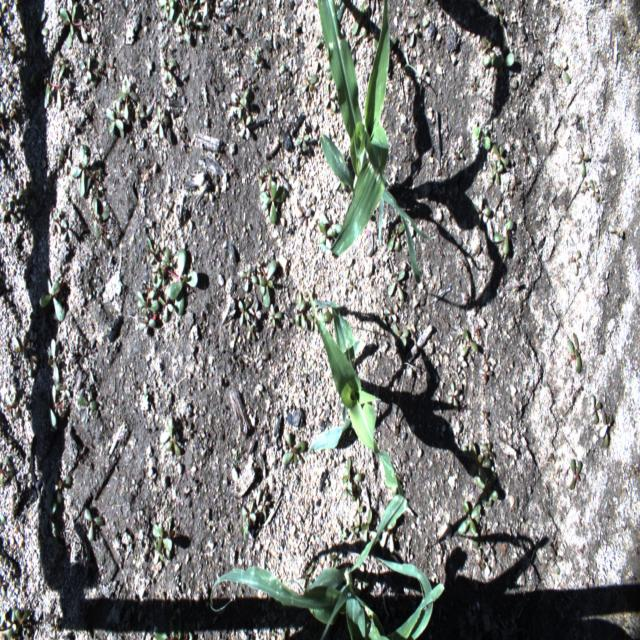crop: (316, 0, 438, 284), (210, 495, 445, 639), (306, 289, 403, 494)
weed: (147, 237, 198, 314), (157, 0, 215, 43), (60, 0, 104, 48), (71, 144, 103, 204), (39, 264, 71, 323), (258, 166, 288, 224), (36, 379, 70, 428), (150, 604, 193, 639), (110, 75, 139, 120), (89, 194, 110, 250), (136, 284, 158, 335), (152, 520, 176, 565), (44, 58, 64, 110), (257, 258, 277, 308), (0, 607, 30, 639), (48, 468, 73, 506), (40, 490, 59, 539), (341, 456, 362, 500), (470, 442, 492, 482), (458, 502, 481, 538), (0, 187, 23, 223), (482, 52, 514, 77), (160, 417, 180, 456), (282, 433, 306, 465), (476, 472, 498, 506), (471, 194, 491, 229), (240, 499, 257, 540), (84, 508, 104, 542), (494, 220, 513, 255), (106, 104, 124, 138), (77, 393, 96, 425), (566, 332, 581, 372), (318, 220, 335, 255), (30, 8, 49, 39), (230, 88, 248, 120), (153, 104, 169, 139), (553, 54, 571, 85), (387, 222, 406, 251), (388, 270, 406, 300), (294, 292, 308, 330), (352, 1, 366, 39), (46, 338, 58, 382), (240, 264, 258, 292), (319, 212, 343, 233), (1, 392, 19, 420), (460, 330, 478, 357), (294, 120, 309, 152), (472, 126, 491, 151), (599, 411, 612, 447), (255, 490, 270, 521), (575, 144, 589, 176), (0, 101, 13, 135), (90, 59, 105, 87), (11, 332, 27, 358), (492, 143, 509, 167), (248, 299, 262, 327), (162, 58, 177, 84), (0, 456, 13, 486), (48, 205, 61, 235), (392, 324, 408, 348), (159, 296, 173, 323), (550, 545, 562, 576), (268, 302, 282, 328), (569, 460, 581, 490), (7, 40, 21, 65), (374, 36, 397, 51), (239, 114, 252, 140), (324, 84, 336, 112), (79, 56, 91, 84), (448, 381, 459, 411), (301, 564, 313, 590), (360, 509, 372, 535), (58, 150, 71, 174), (301, 74, 317, 93), (590, 396, 600, 426), (60, 219, 73, 242), (238, 299, 249, 326), (1, 0, 15, 21), (408, 19, 418, 48), (49, 614, 60, 639), (490, 161, 503, 182), (329, 547, 343, 566), (482, 442, 494, 464), (135, 102, 145, 127), (307, 313, 318, 334), (479, 364, 491, 383), (493, 2, 504, 22), (384, 306, 396, 324), (317, 309, 332, 323), (572, 250, 580, 276), (356, 570, 369, 586), (608, 225, 624, 237), (246, 320, 255, 341), (485, 539, 496, 556), (580, 179, 593, 193), (482, 37, 492, 55), (78, 346, 88, 364), (339, 525, 348, 544), (592, 182, 600, 201), (348, 527, 358, 542), (144, 541, 154, 556), (326, 63, 334, 80), (478, 548, 484, 570), (346, 256, 352, 278), (349, 275, 356, 292), (422, 18, 429, 28), (457, 150, 463, 158)
